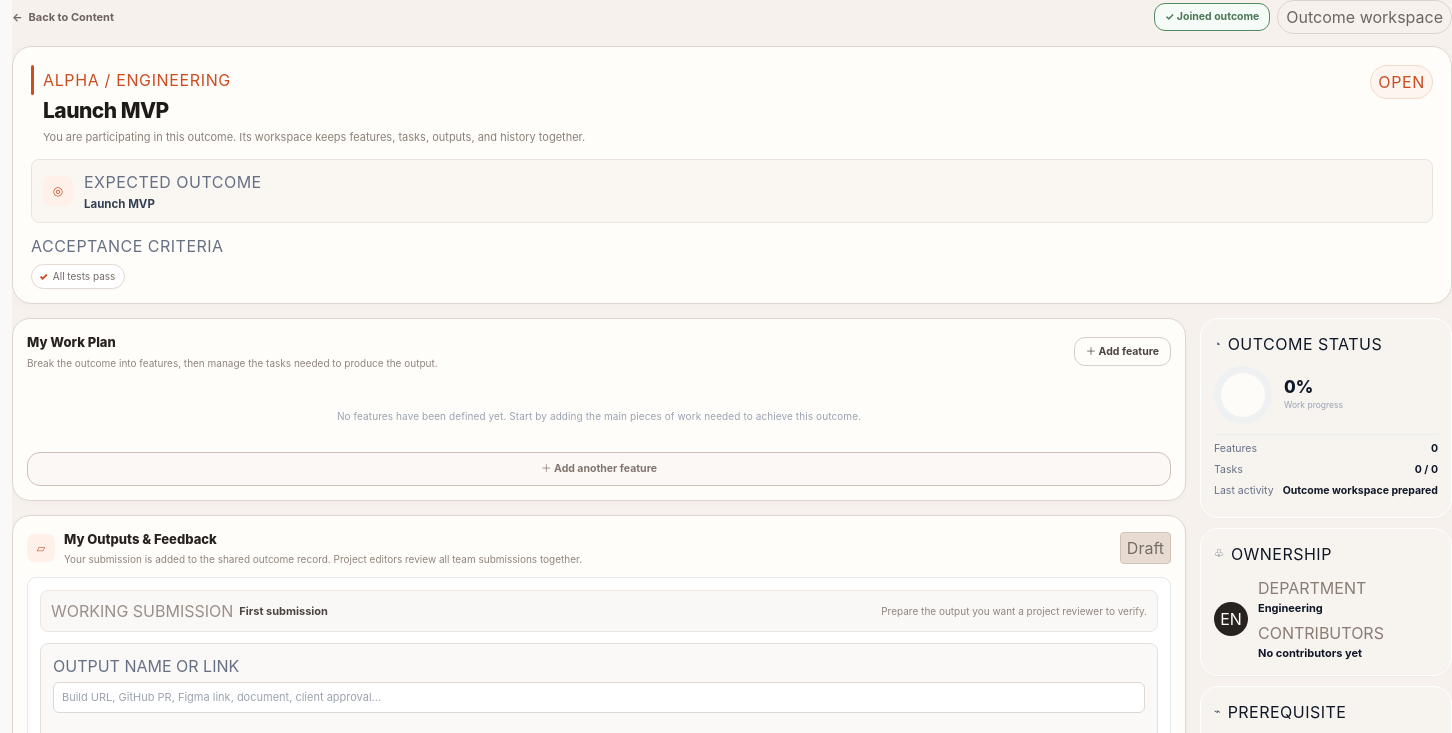
Test: Outcome Workspace - Empty State › clicking Add Feature in empty state opens the feature creation form
expect the text "No features have been defined yet." is shown: met, box [337,410,861,422]
What coordinates should you click on to do the following:
click the button "＋ Add feature"
I would click on:
 (1122, 352)
Its box is [1074,337,1171,366].
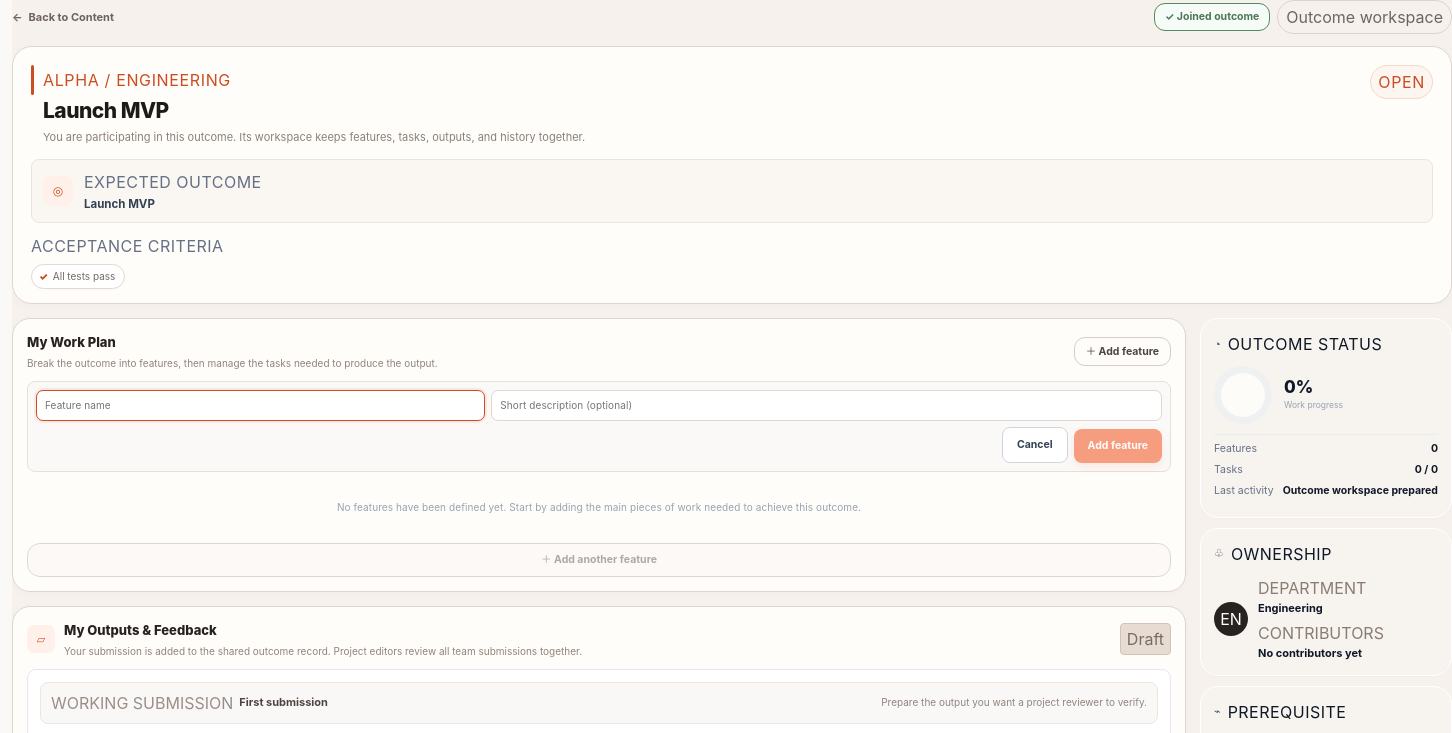
expect the field named "feature title" is shown: met, box [36,390,485,421]
